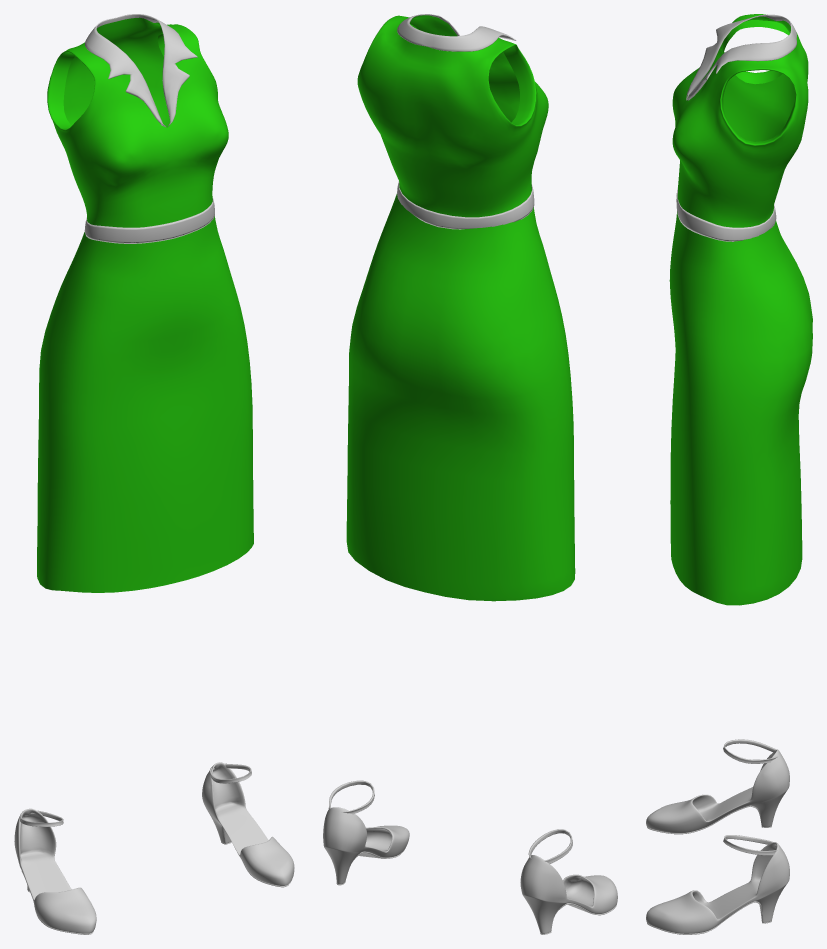
The model's file is nvquntao3.obj.
3 views of the same model, side by side, from view 1: azimuth 30°, elevation 25°; view 2: azimuth 150°, elevation 25°; view 3: azimuth 270°, elevation 25° (orthographic). The views are drawn at different scales.
Visible parts, largest first — view 1: nvquntao2; view 2: nvquntao2; view 3: nvquntao2.
Part boxes in pixels (x1,y1,x2,y2): nvquntao2: (14, 14, 294, 934); nvquntao2: (323, 14, 617, 934); nvquntao2: (646, 14, 812, 934).
Bounding box in the file's own units: 1.68 × 5.51 × 0.9827.
